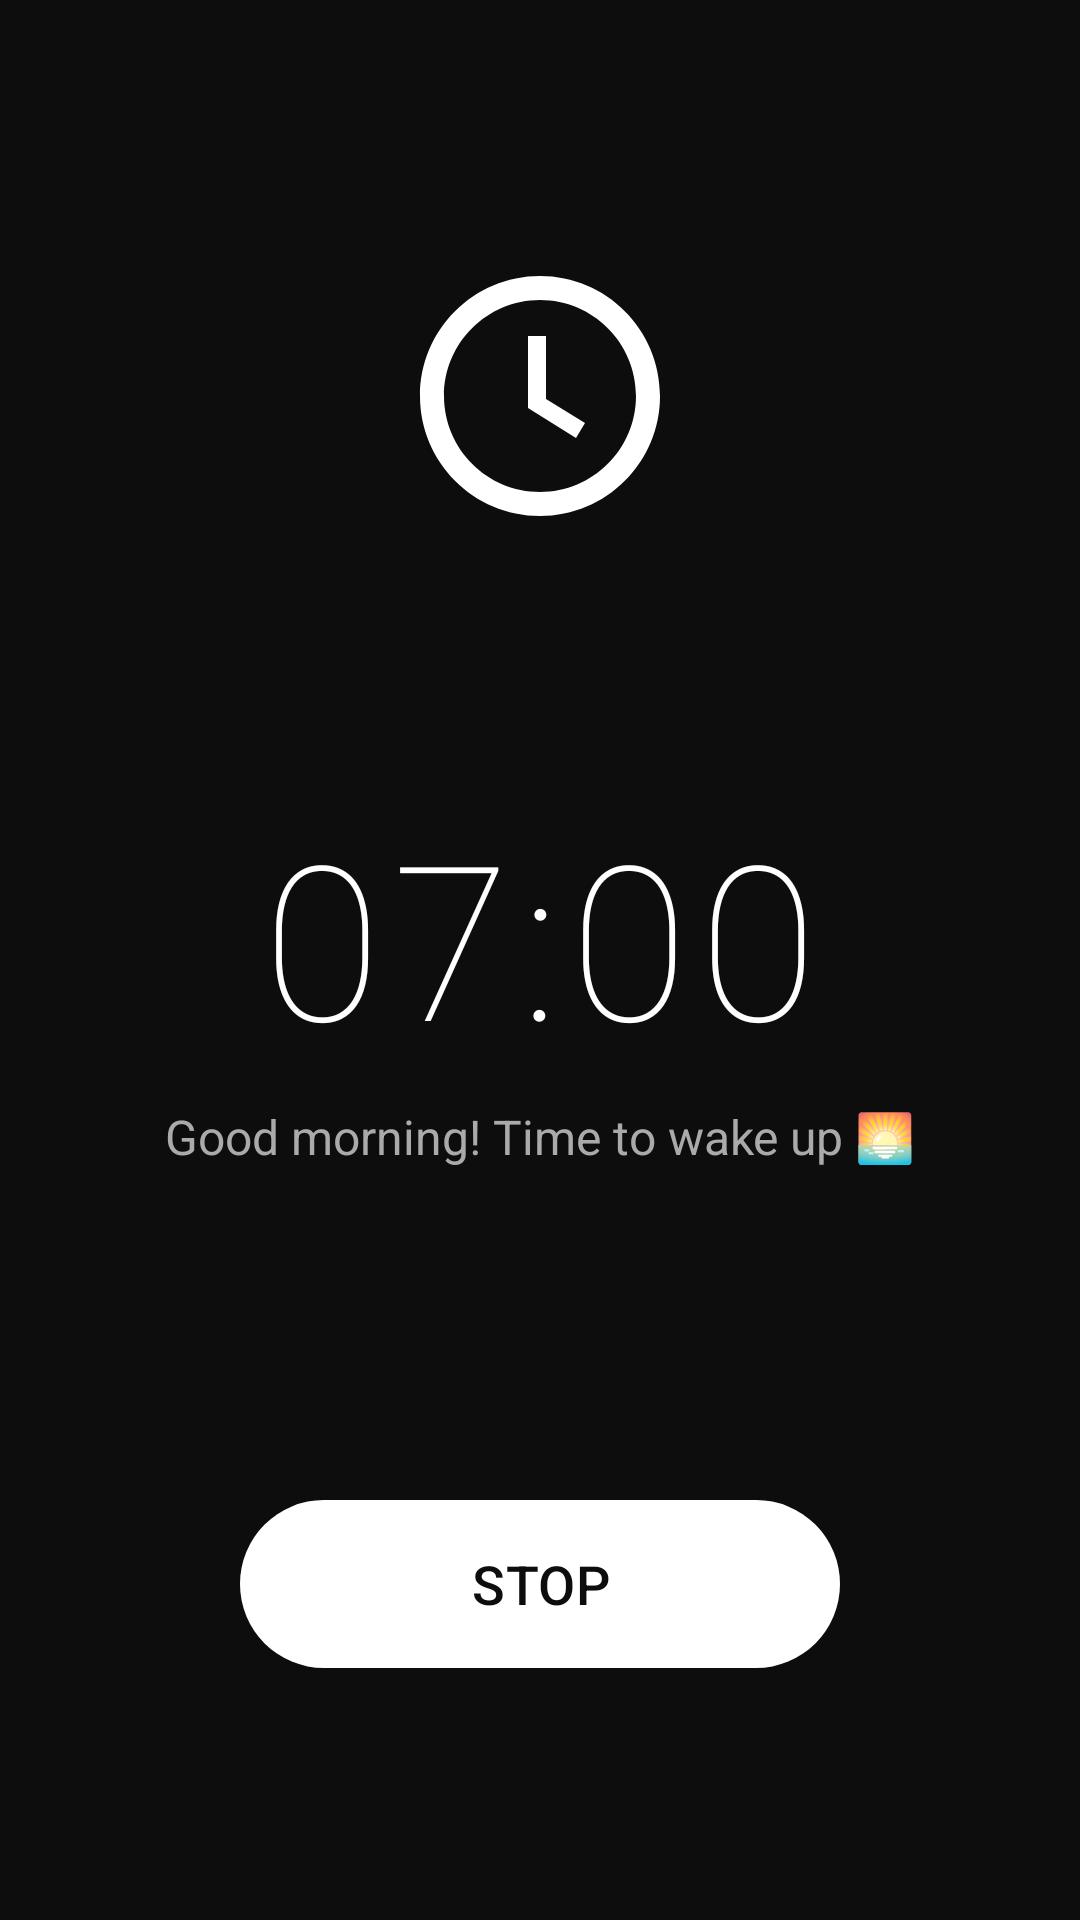

Icons on this 1080w x 1920h Android screen, each with the point to tap as (x=x, y=y):
clock: (x=540, y=396)
